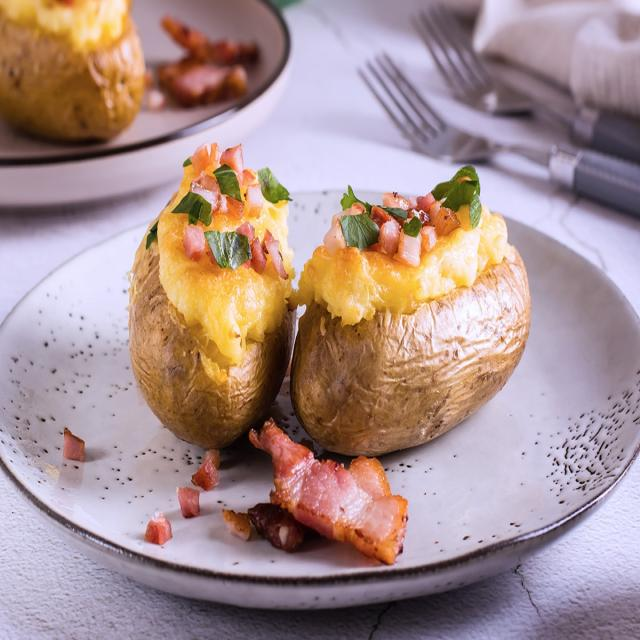carne de cerdo: (240, 410, 420, 583)
papa: (287, 188, 547, 457), (130, 156, 294, 463)
